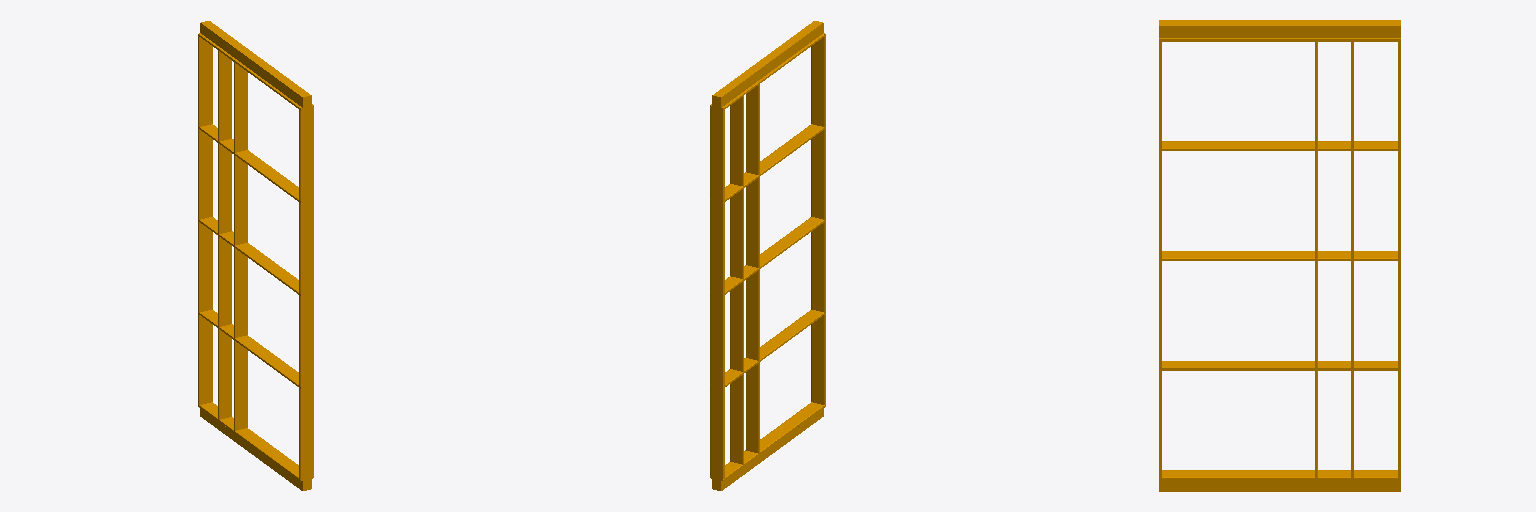
URDF robot description (pallet_rack):
<?xml version="1.0"?>
<robot name="pallet_rack">

  <link name="rack_base">
    
    <inertial>
      <mass value="0.5"/>
      <origin xyz="0 0 0" rpy="0 0 0"/>
      <inertia ixx="0.1" ixy="0.0" ixz="0.0" iyy="0.1" iyz="0.0" izz="0.1"/>
    </inertial>

    <visual><origin xyz="0 0 0" rpy="0 0 0"/><geometry><mesh filename="window.dae"/></geometry></visual>
    <collision><origin xyz="0 0 0" rpy="0 0 0"/><geometry><mesh filename="window.dae"/></geometry></collision>

  </link>
</robot>

--- Facts derived from the render (not from the file) ---
Views: 3 orthographic renders of the robot side by side, from view 1: azimuth 30°, elevation 25°; view 2: azimuth 150°, elevation 25°; view 3: azimuth 270°, elevation 25°.
Model pallet_rack with 1 links and 0 joints (none), rooted at rack_base, posed every joint at zero.
Links seen in each view (by area): view 1: rack_base; view 2: rack_base; view 3: rack_base.
Link boxes in pixels (<box>): rack_base: <box>198,21,313,490</box>; rack_base: <box>710,21,825,490</box>; rack_base: <box>1159,20,1400,491</box>.
Size in the robot's own frame: 0.3 by 4 by 8.5 metres.
Meshes: 1 distinct files referenced, 1 mesh visuals loaded (1 Collada DAE).
